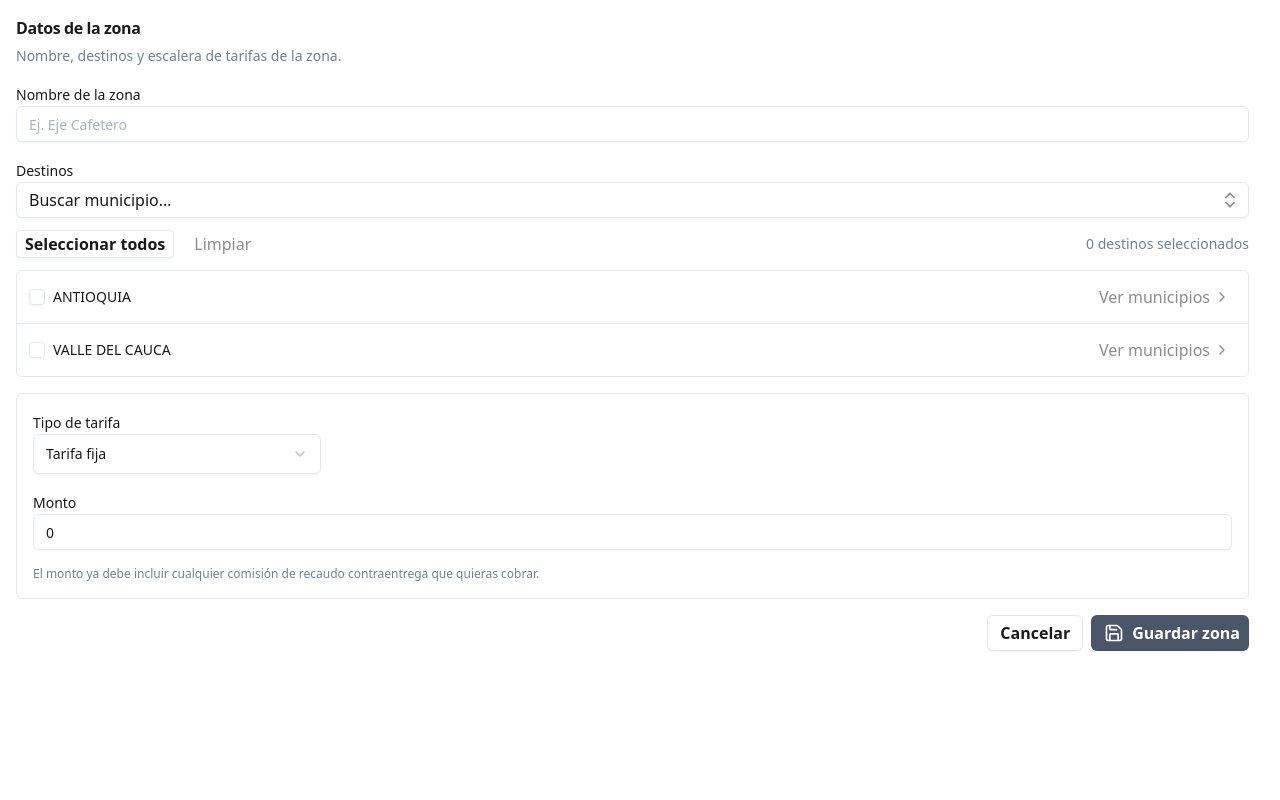
ZoneForm destinations picker › selecting a whole department clears its municipios selected individually, so the two can never coexist for the same department
Later steps or results of the test are not shown.
Click the button "Ver municipios" in the row of "ANTIOQUIA".
click(1163, 297)  # box [1091,283,1236,311]
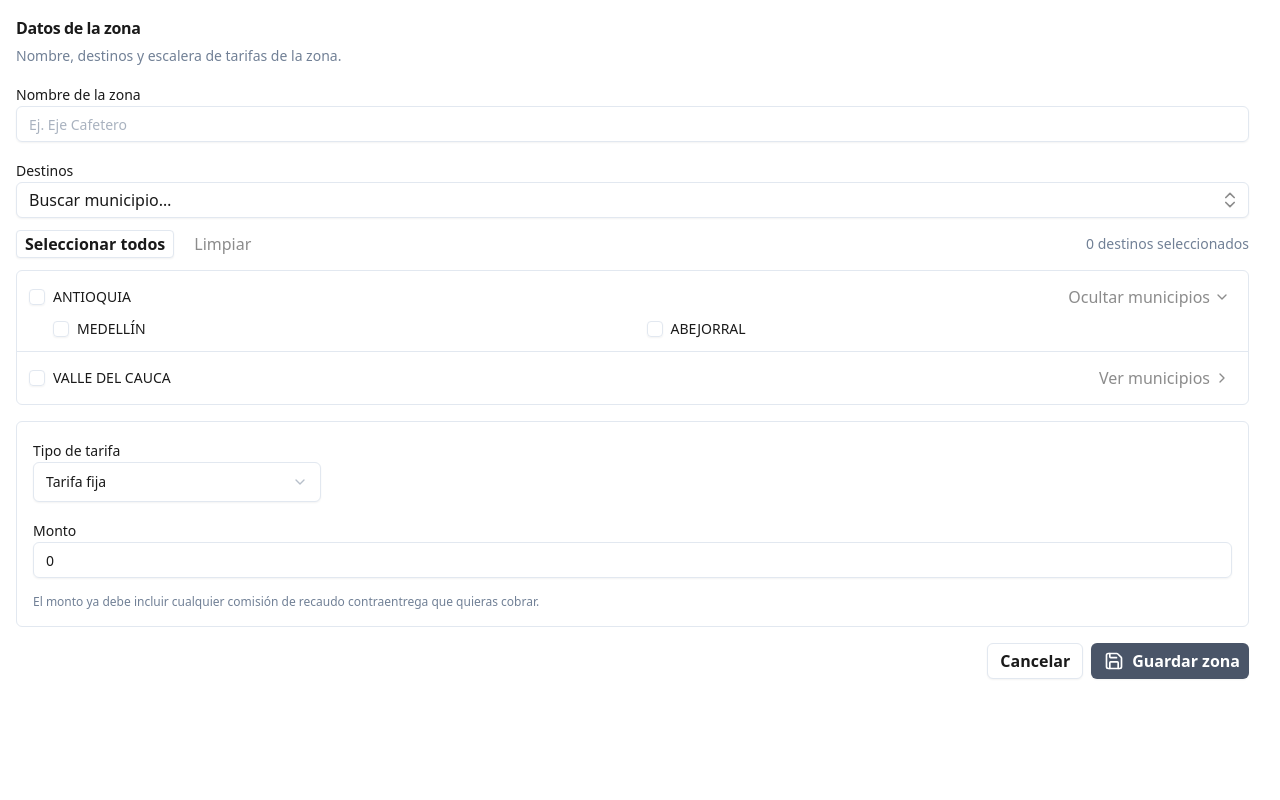
Expected: the checkbox named "MEDELLÍN" next to "MEDELLÍN" is shown
Click the checkbox named "MEDELLÍN" next to "MEDELLÍN".
click(61, 329)  # box [53,321,69,337]
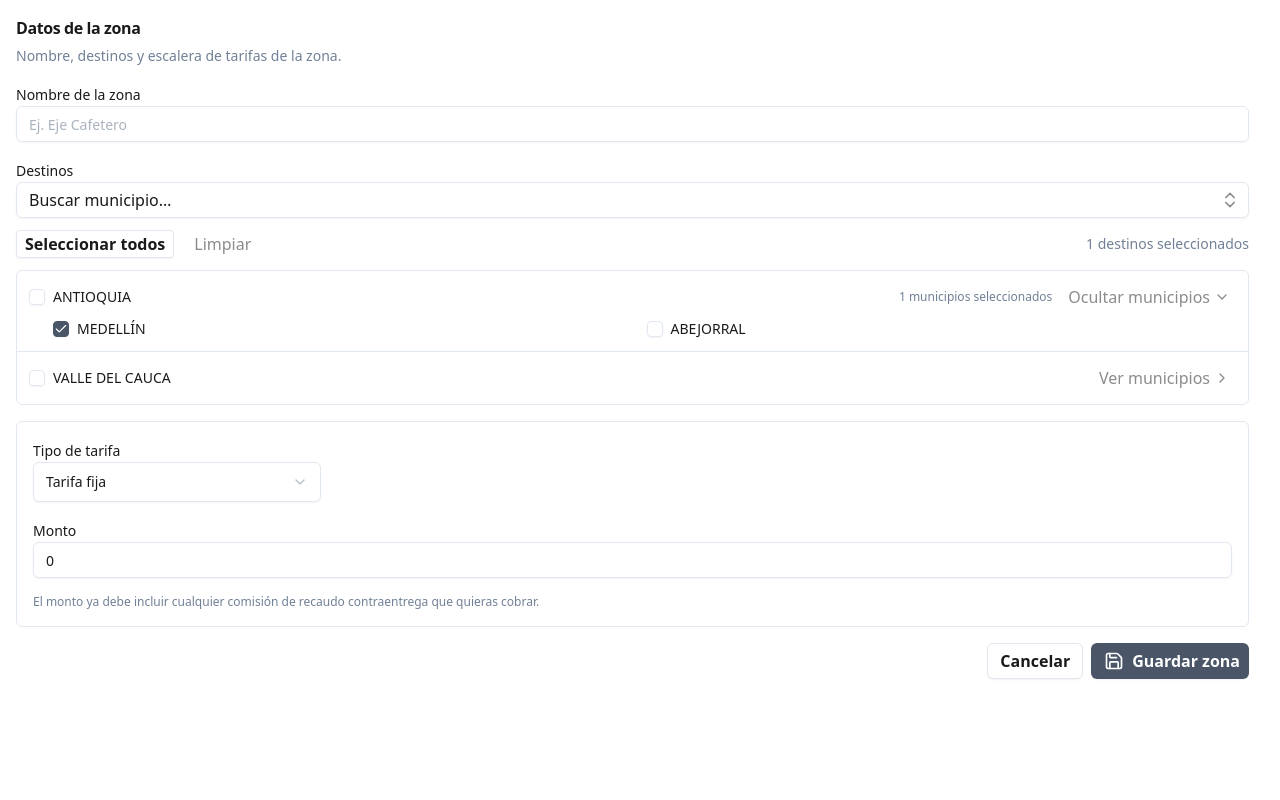
Expected: the checkbox named "MEDELLÍN" next to "MEDELLÍN" is checked, [53,321,69,337]
Click the checkbox named "ANTIOQUIA" next to "ANTIOQUIA".
click(37, 297)  # box [29,289,45,305]
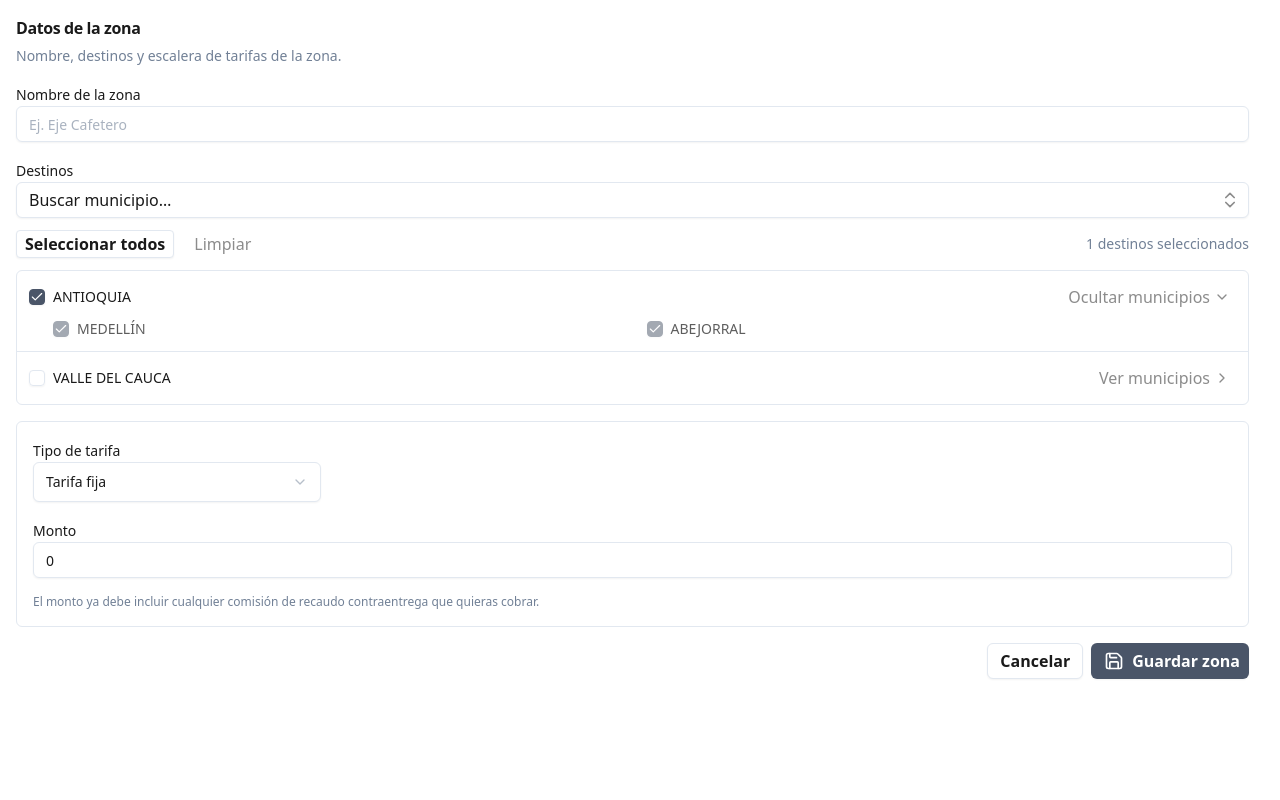
Expected: the checkbox named "ANTIOQUIA" next to "ANTIOQUIA" is checked, [29,289,45,305]
Expected: the checkbox named "MEDELLÍN" next to "MEDELLÍN" is checked, [53,321,69,337]
Expected: the checkbox named "ABEJORRAL" next to "ABEJORRAL" is checked, [646,321,662,337]
